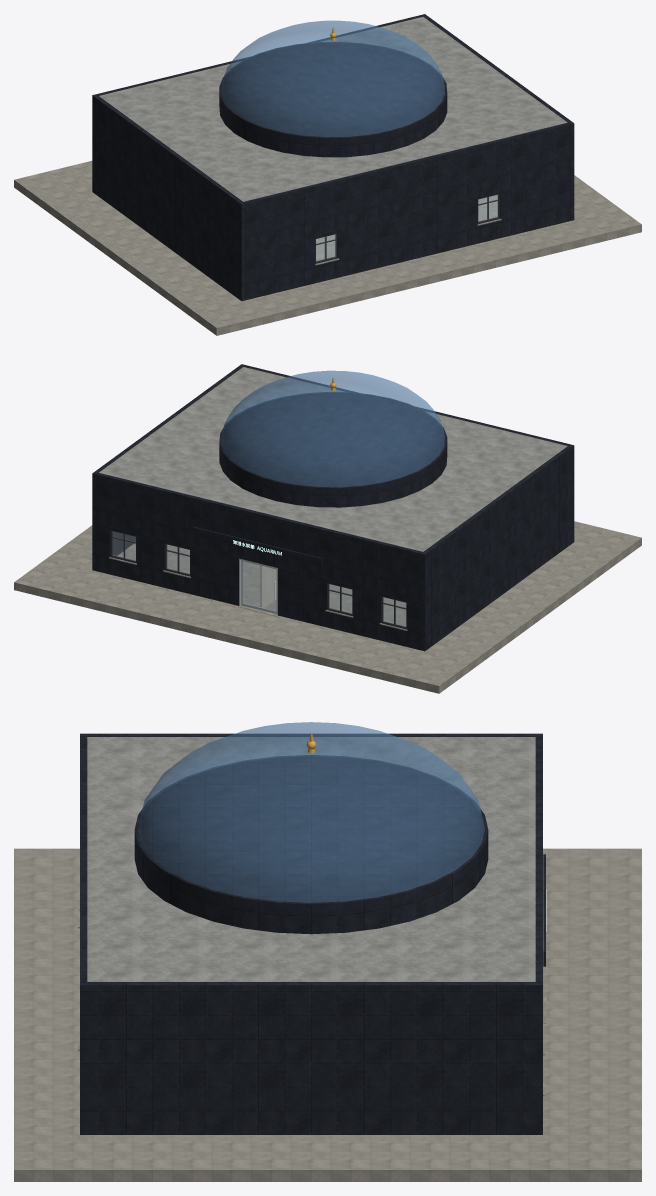
Rendered from b_harbor_aquarium.gltf.
The picture shows the model from 3 angles, top to bottom: view 1: azimuth 30°, elevation 25°; view 2: azimuth 150°, elevation 25°; view 3: azimuth 270°, elevation 25°; orthographic projection. The views are drawn at different scales.
Visible parts, largest first — view 1: S_harbor_aquarium; view 2: S_harbor_aquarium, D_harbor_aquarium_F1_S4_Door0; view 3: S_harbor_aquarium.
Part boxes in pixels (box(x1,y1,x2,y2)): S_harbor_aquarium: box(14, 14, 641, 335); S_harbor_aquarium: box(14, 364, 641, 693); D_harbor_aquarium_F1_S4_Door0: box(241, 560, 276, 613); S_harbor_aquarium: box(14, 722, 641, 1181).
Bounding box in the file's own units: 23 × 9.62 × 19.
17 materials, 8 textured.
